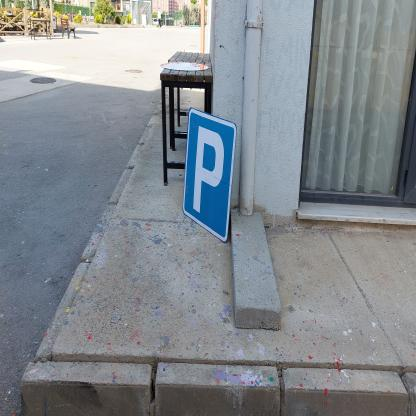Parking-Sign: (184, 108, 237, 242)
